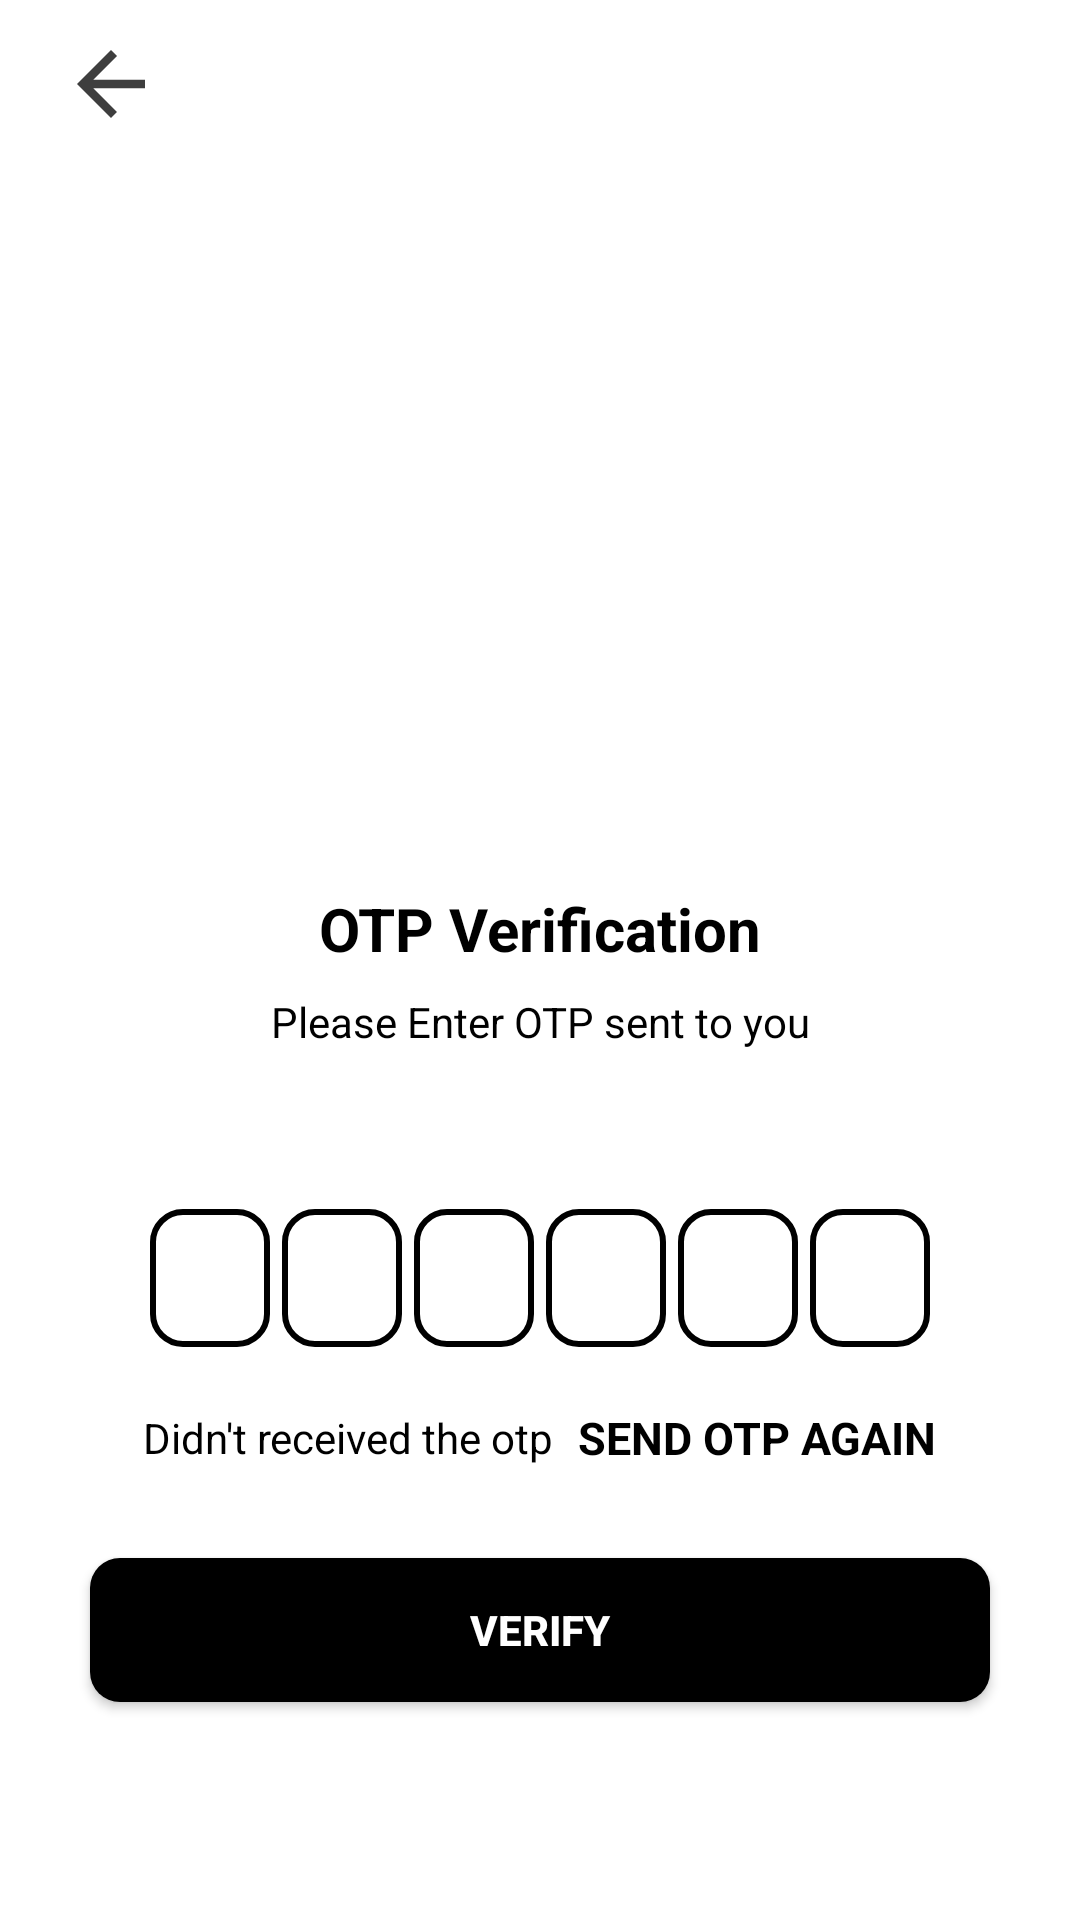

Icon bounding boxes for this 1080 x 1920 phone screenshot, format (x1, y1, x2, y2):
arrow back: (77, 50, 145, 118)
